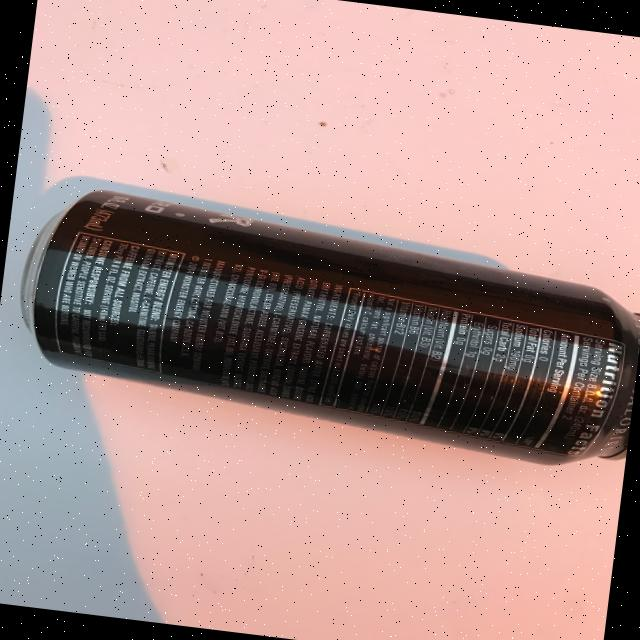metal: (7, 179, 640, 470)
